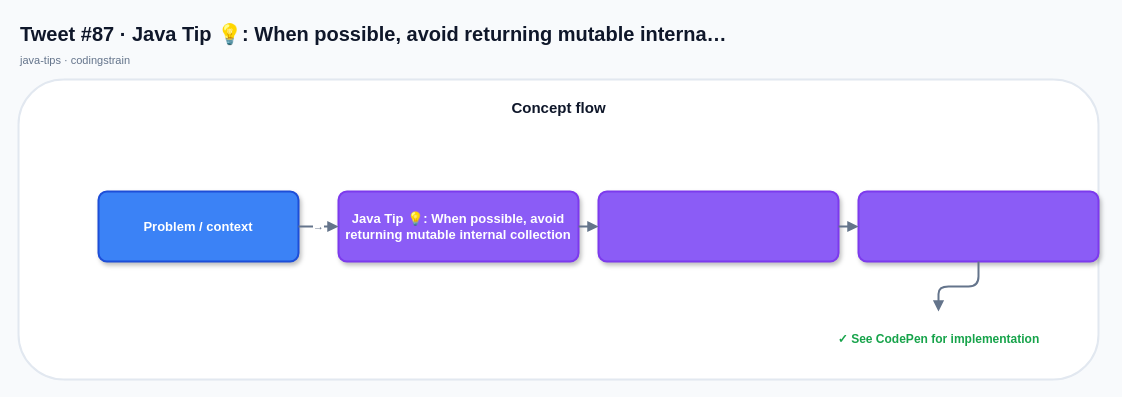
Image size: 1122x397. Some labels were removed from this diagram. The centre of each missing label's shape, as x and y in pixels:
1) You don't expose internal state, improving security: (719,227)
2) You can change the implementation without breaking other parts: (979,227)
